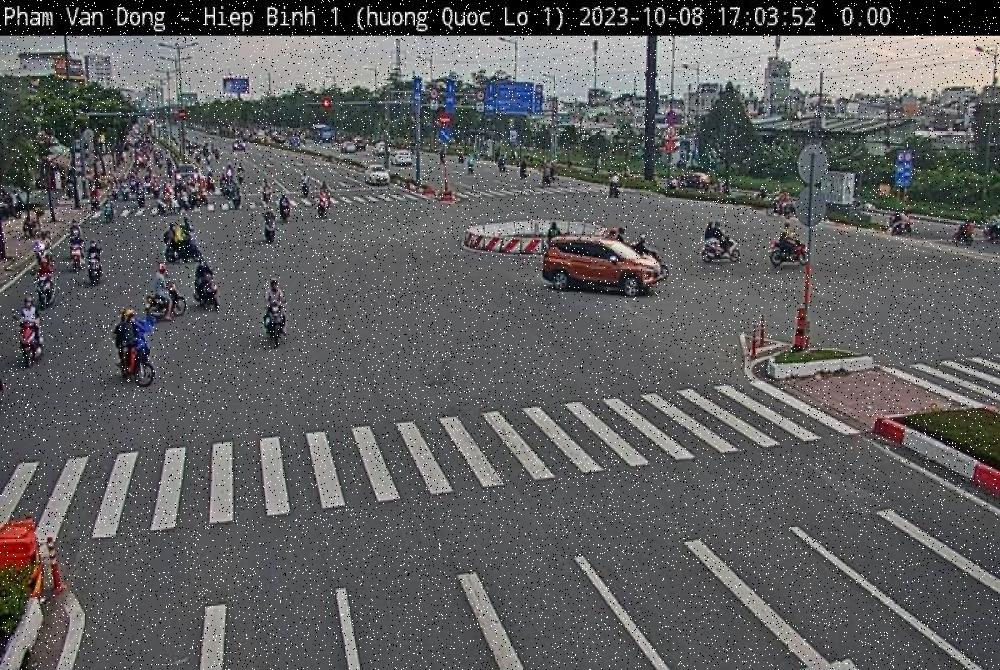car: (542, 233, 663, 295)
